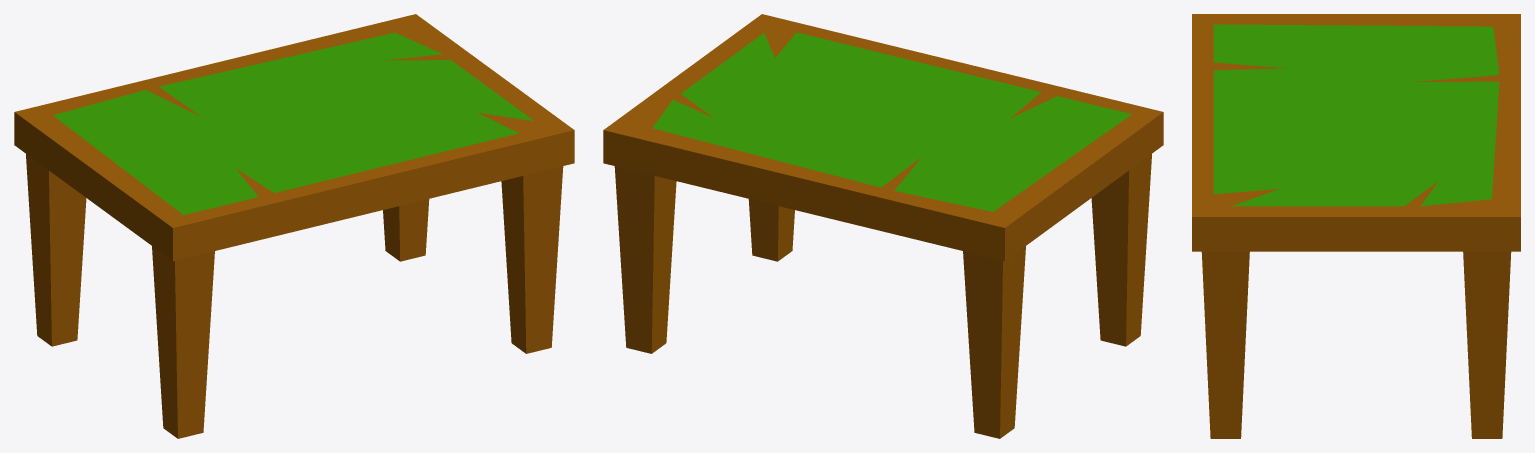
The model's file is Crafting Table.fbx.
3 renders of one model, left to right at view 1: azimuth 30°, elevation 25°; view 2: azimuth 150°, elevation 25°; view 3: azimuth 270°, elevation 25°, orthographic. The views are drawn at different scales.
Parts seen in each view (by area): view 1: Plane, Cube, Cube.001; view 2: Plane, Cube, Cube.001; view 3: Plane, Cube, Cube.001.
Boxes of the visible parts, x1,y1,x2,y2 form: Plane: (53,32,534,214); Cube: (14,14,574,261); Cube.001: (26,154,563,438); Plane: (652,32,1131,211); Cube: (603,14,1163,261); Cube.001: (614,154,1151,438); Plane: (1213,24,1499,206); Cube: (1192,14,1520,251); Cube.001: (1201,251,1511,438).
Bounding box in the file's own units: 134 × 70.31 × 91.47.
